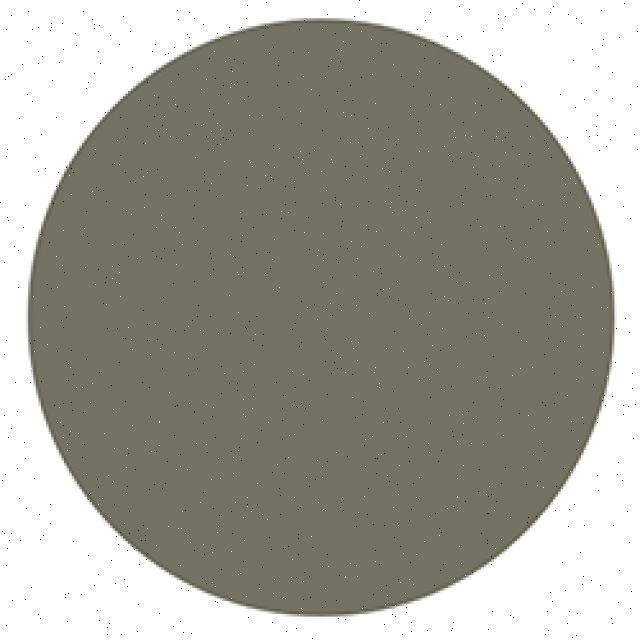Circle: (19, 16, 626, 624)
